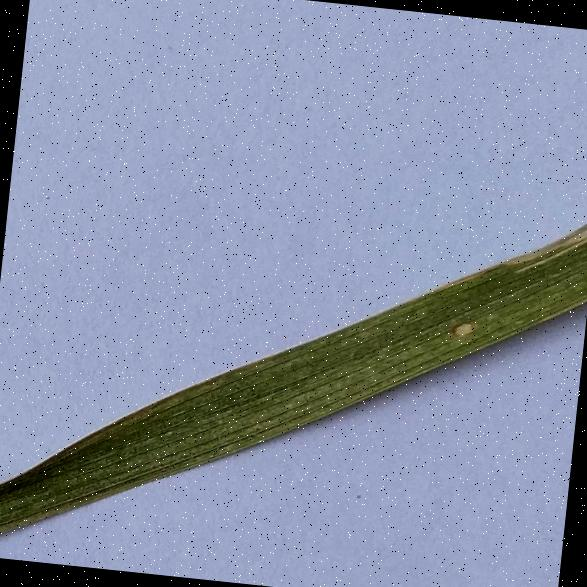Leaf_smut: (441, 301, 480, 342)
